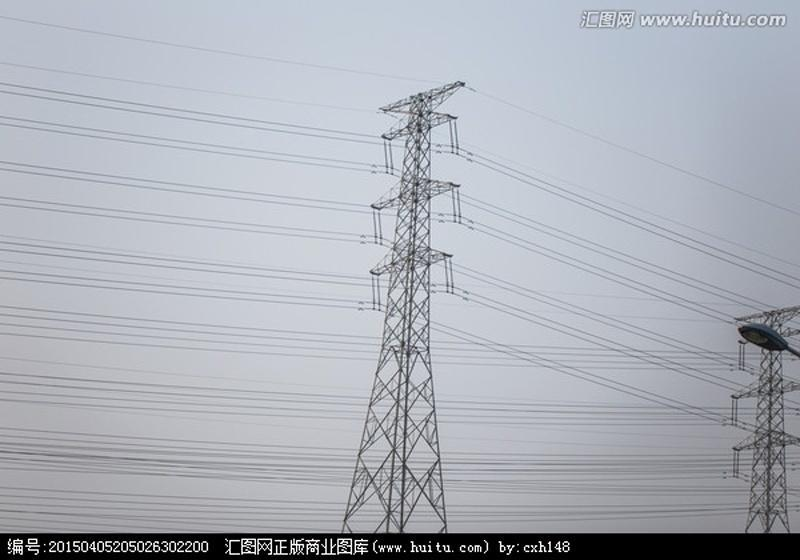power_tower: (340, 81, 469, 534), (729, 303, 800, 532)
